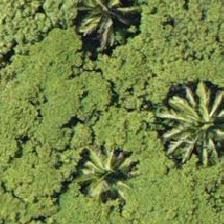coconut_tree: (57, 125, 147, 215), (47, 0, 137, 62), (173, 74, 223, 164)
